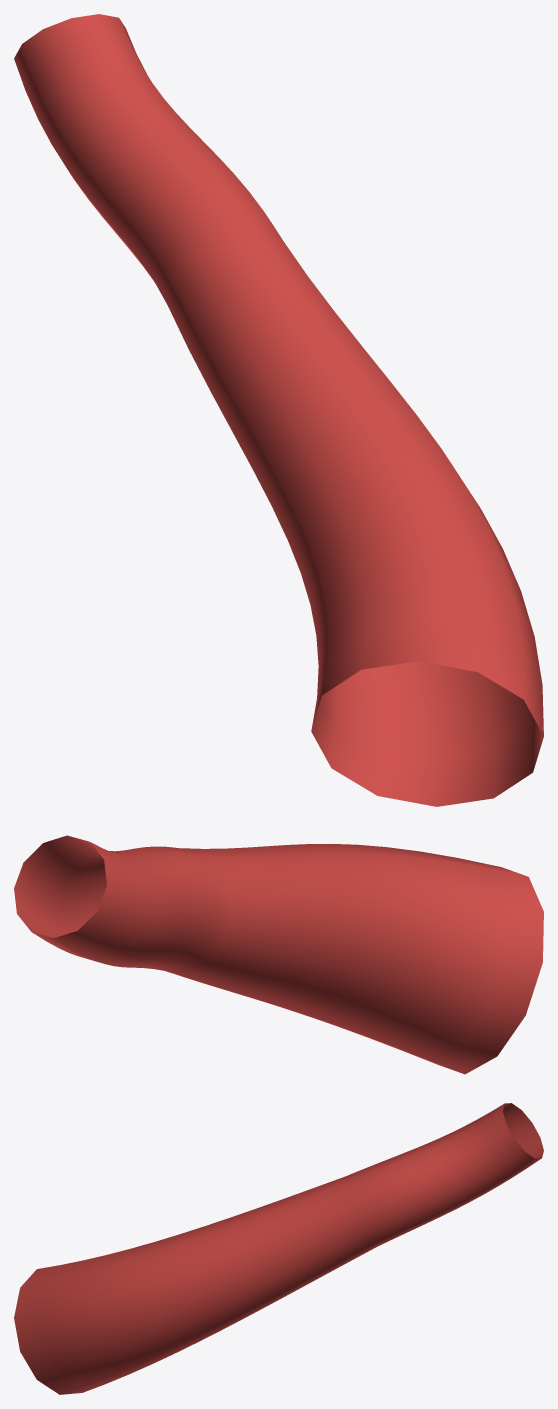
The picture shows the model from 3 angles, top to bottom: view 1: azimuth 30°, elevation 25°; view 2: azimuth 150°, elevation 25°; view 3: azimuth 270°, elevation 25°; orthographic projection. The views are drawn at different scales.
Visible parts, largest first — view 1: 左侧髂内动脉; view 2: 左侧髂内动脉; view 3: 左侧髂内动脉.
Part boxes in pixels (x1,y1,x2,y2): 左侧髂内动脉: (14, 14, 543, 806); 左侧髂内动脉: (14, 835, 543, 1074); 左侧髂内动脉: (14, 1103, 543, 1394).
Size of the model in its own units: 0.0203 by 0.0428 by 0.0706.
